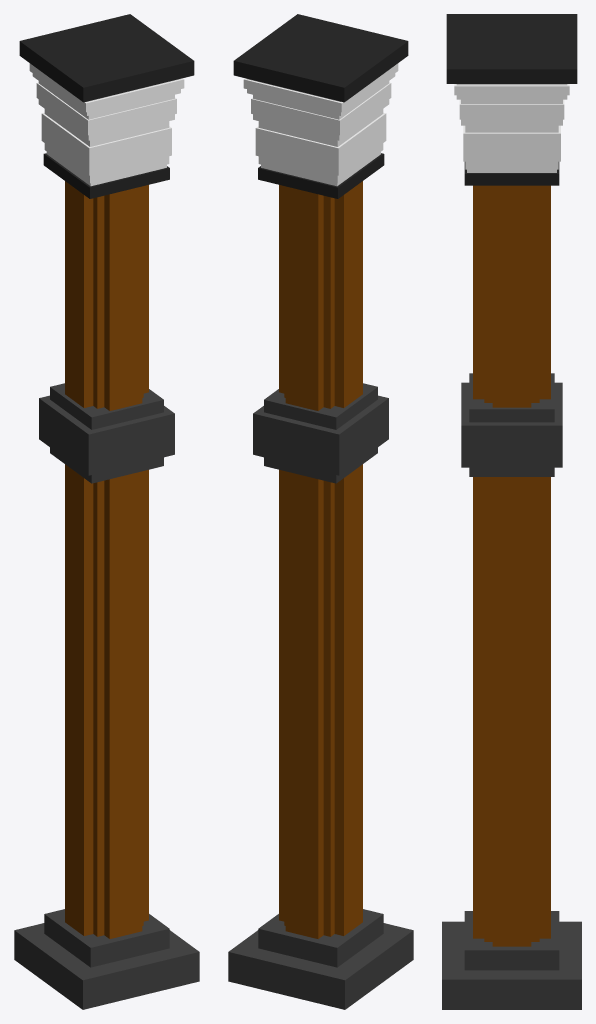
File: lamppost1.glb
3 views of the same model, side by side, from view 1: azimuth 30°, elevation 25°; view 2: azimuth 150°, elevation 25°; view 3: azimuth 270°, elevation 25° (orthographic). The views are drawn at different scales.
Visible parts, largest first — view 1: geometry_0; view 2: geometry_0; view 3: geometry_0.
Boxes of the visible parts, x1,y1,x2,y2 form: geometry_0: [14, 14, 199, 1009]; geometry_0: [228, 14, 413, 1009]; geometry_0: [442, 14, 581, 1009].
Bounding box in the file's own units: 0.92 × 6.93 × 0.9344.
1 material, 1 textured.
